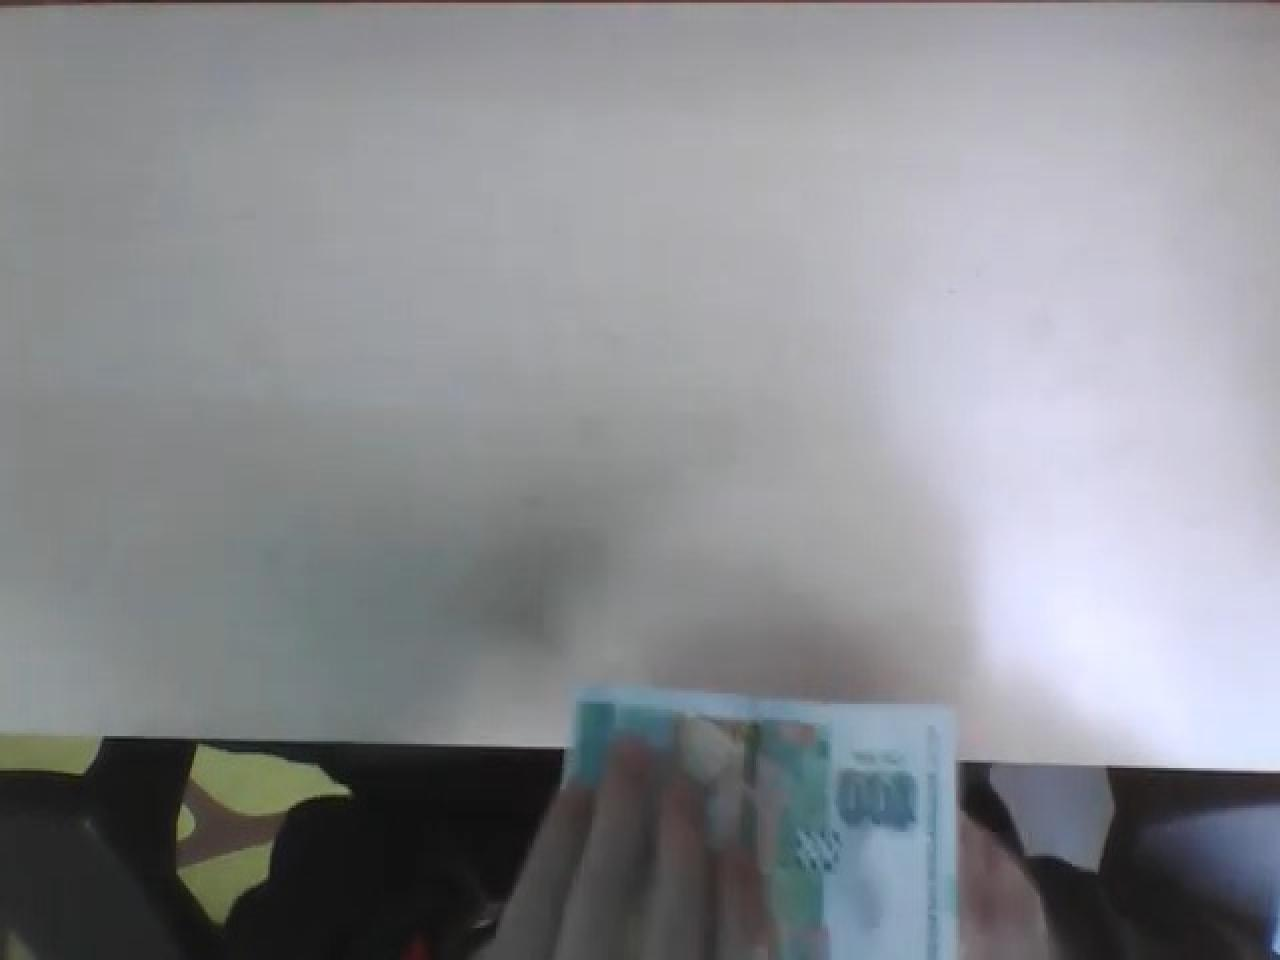100leva: (564, 686, 962, 960), (836, 767, 920, 837)
